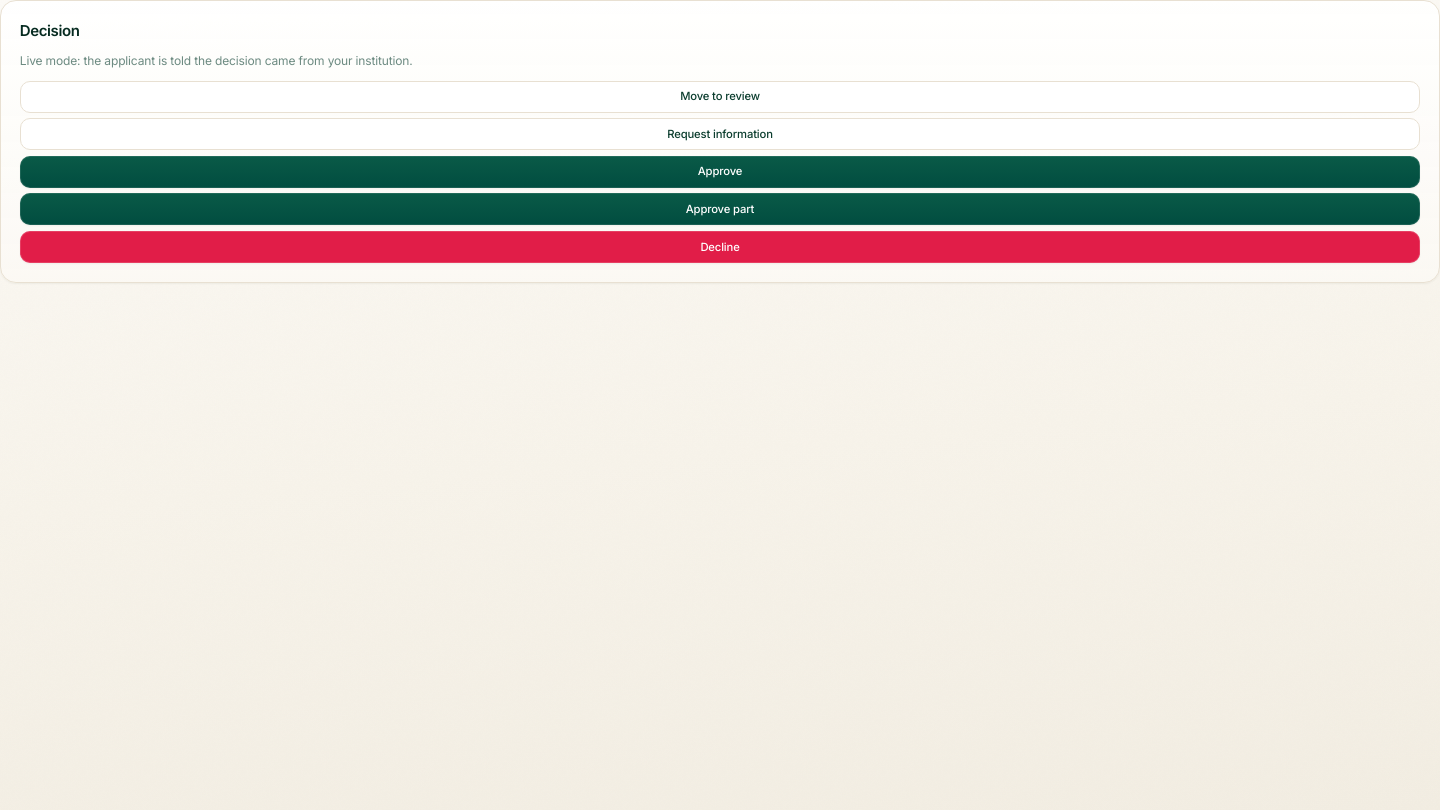
it: a failed decision is visible, and never reported as success › does not refresh as though the decision landed
Click the button "Approve" at (720, 172), box [20, 156, 1420, 188]
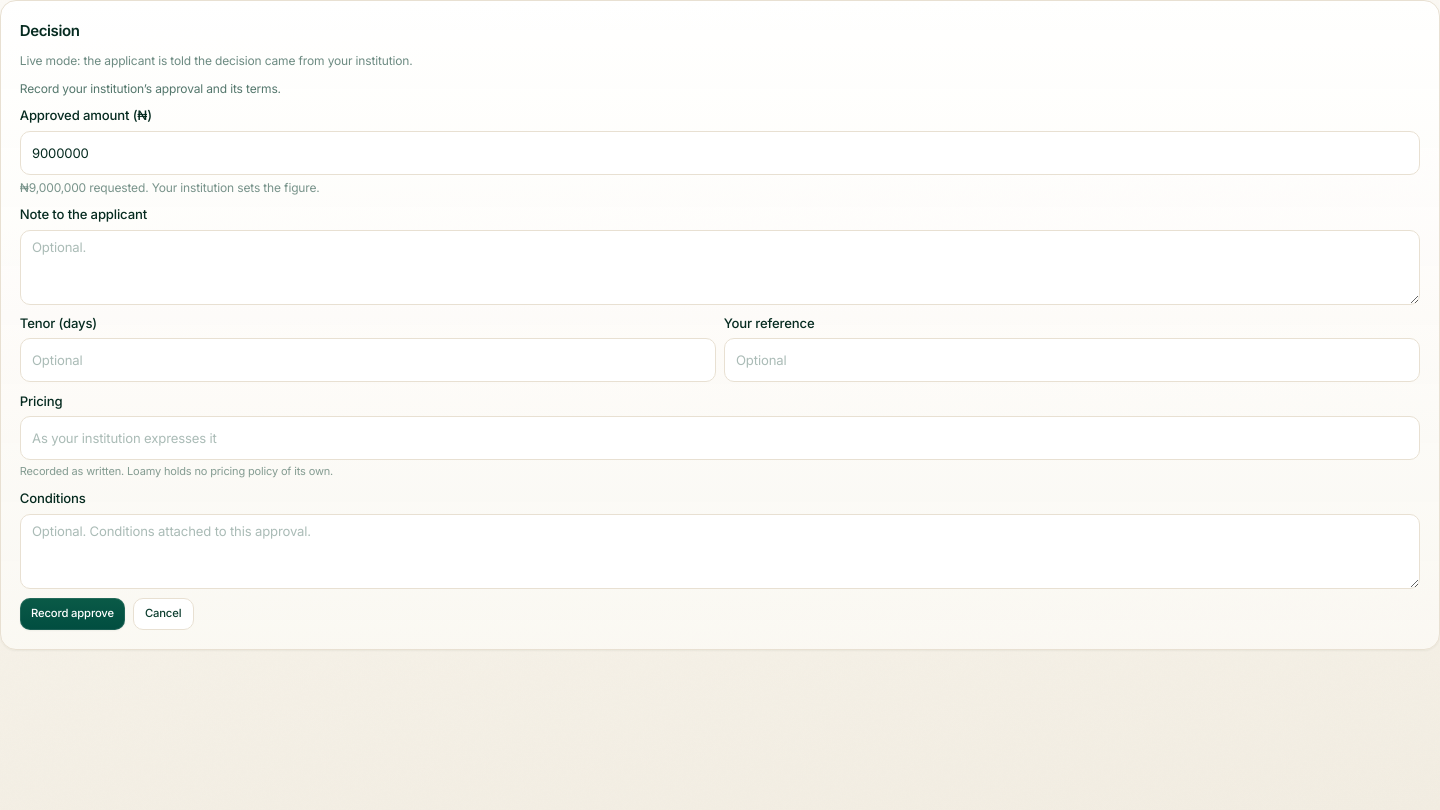
Click the button "Record approve" at (72, 614), box [20, 598, 125, 630]
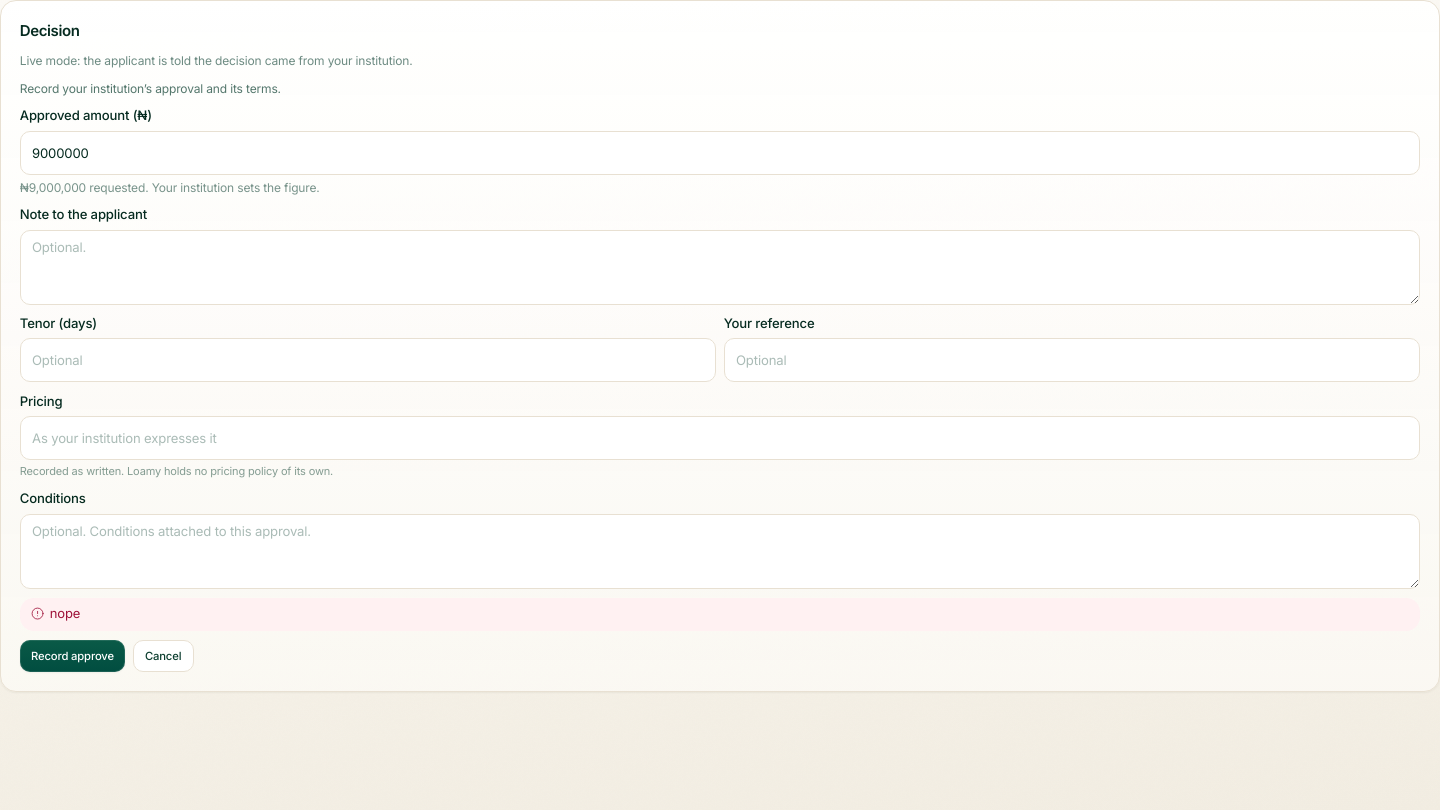
Check: the message "nope" is shown, box [20, 598, 1420, 631]
